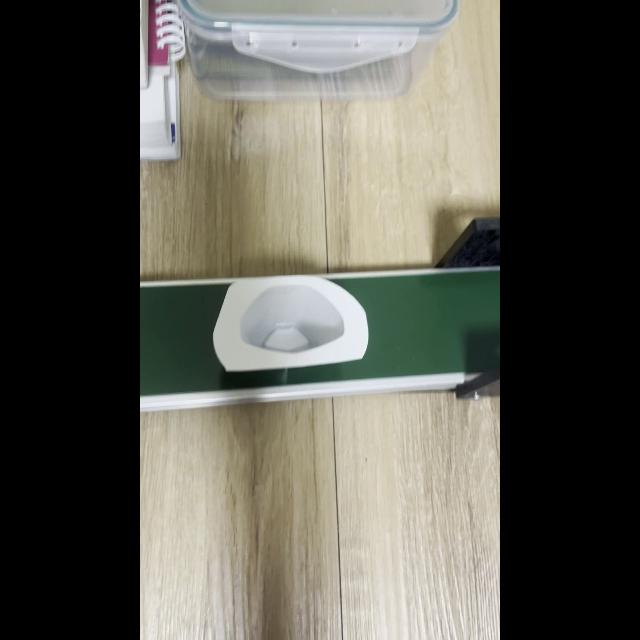clean: (214, 285, 360, 373)
